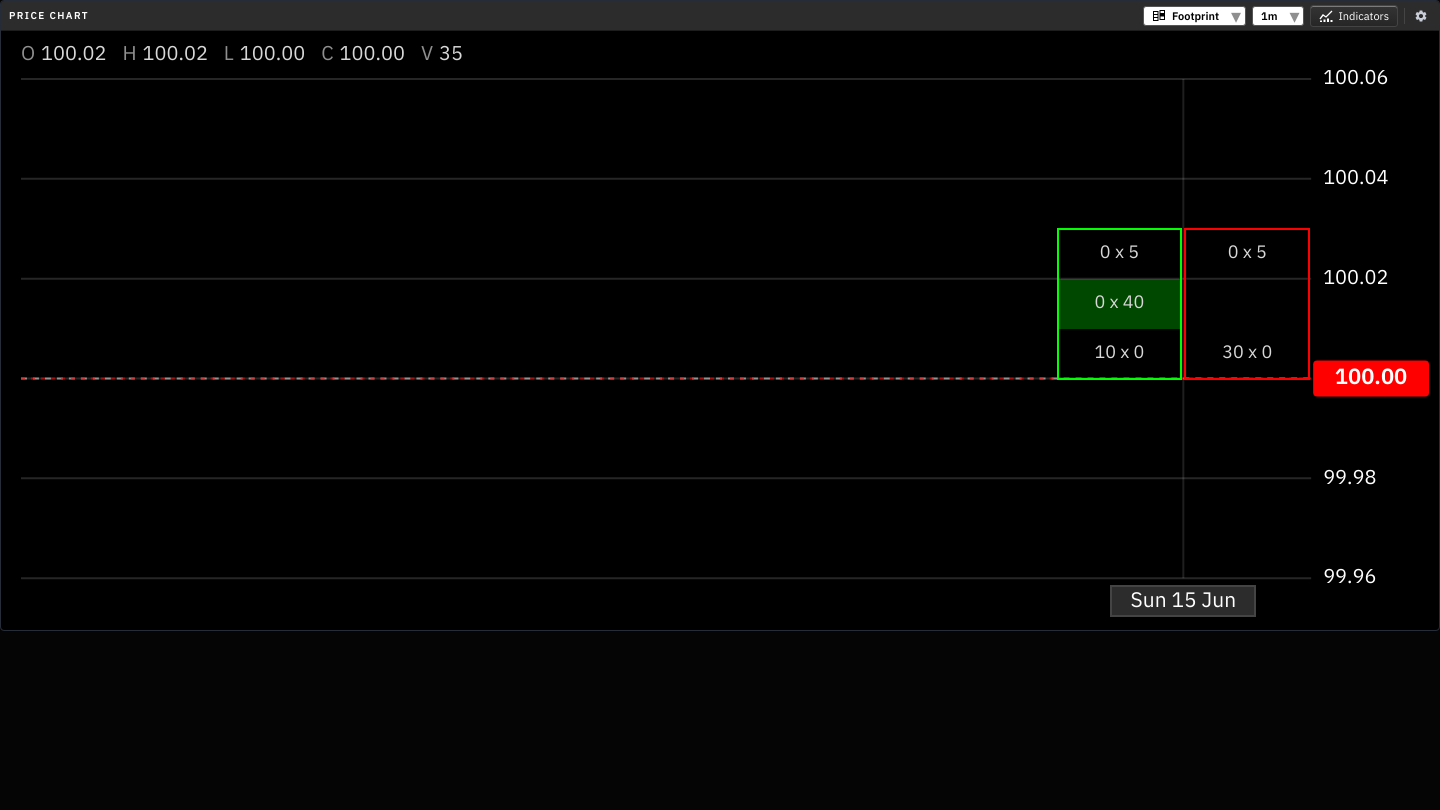
Scenario: footprint chart type (P19-6) › the popup shows 5s and 15s disabled with the note
The width and height of the screenshot is (1440, 810).
Click the button with test id "pc-settings-gear" at (1421, 16), box left=1411, top=6, right=1431, bottom=26
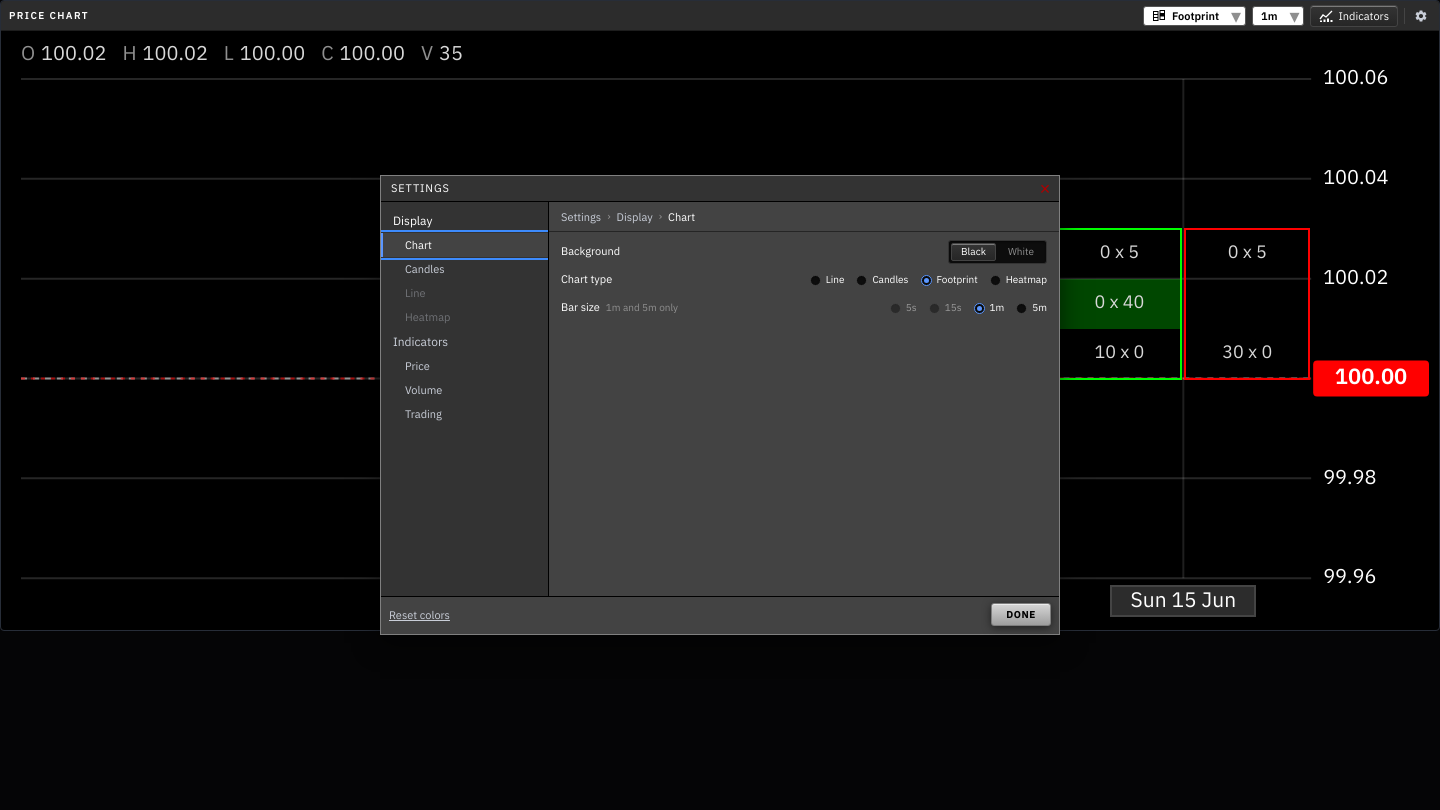
Now the radio button with test id "pc-size-5s" is disabled, box left=890, top=302, right=901, bottom=314
Now the radio button with test id "pc-size-15s" is disabled, box left=929, top=302, right=940, bottom=314
Now the radio button with test id "pc-size-1m" is enabled, box left=974, top=302, right=984, bottom=314
